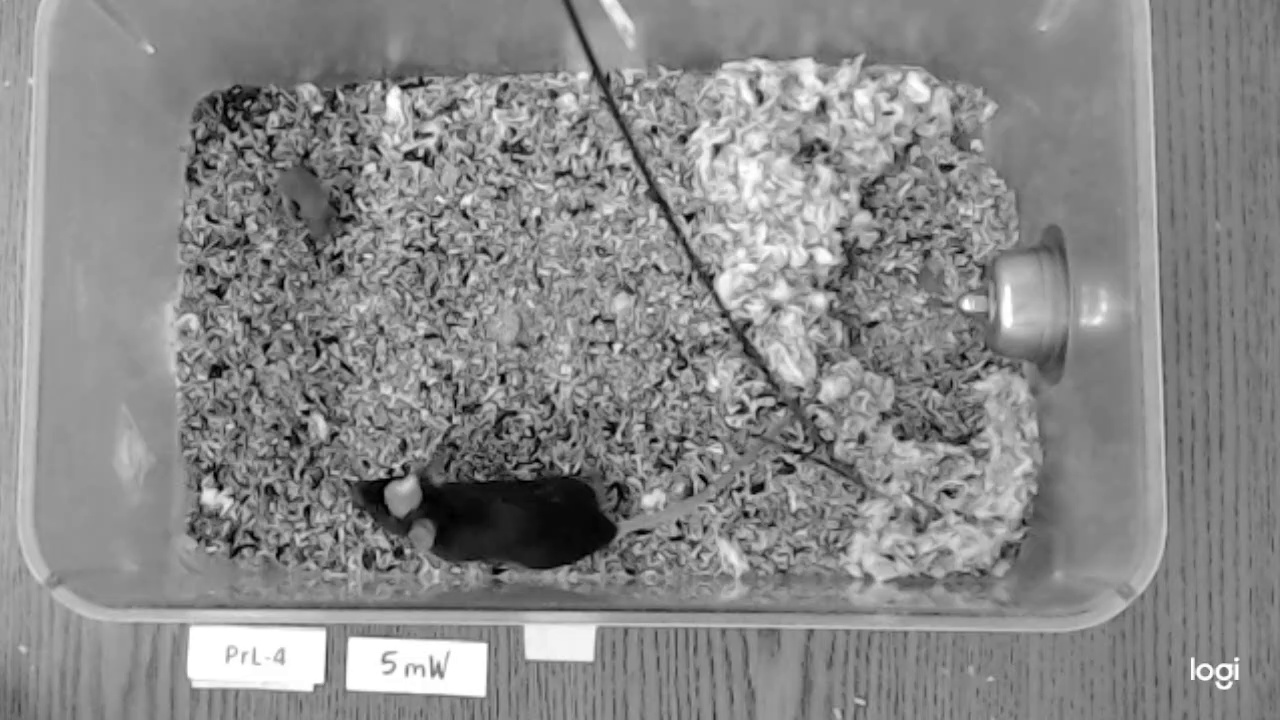parent-mice: (346, 473, 617, 568)
